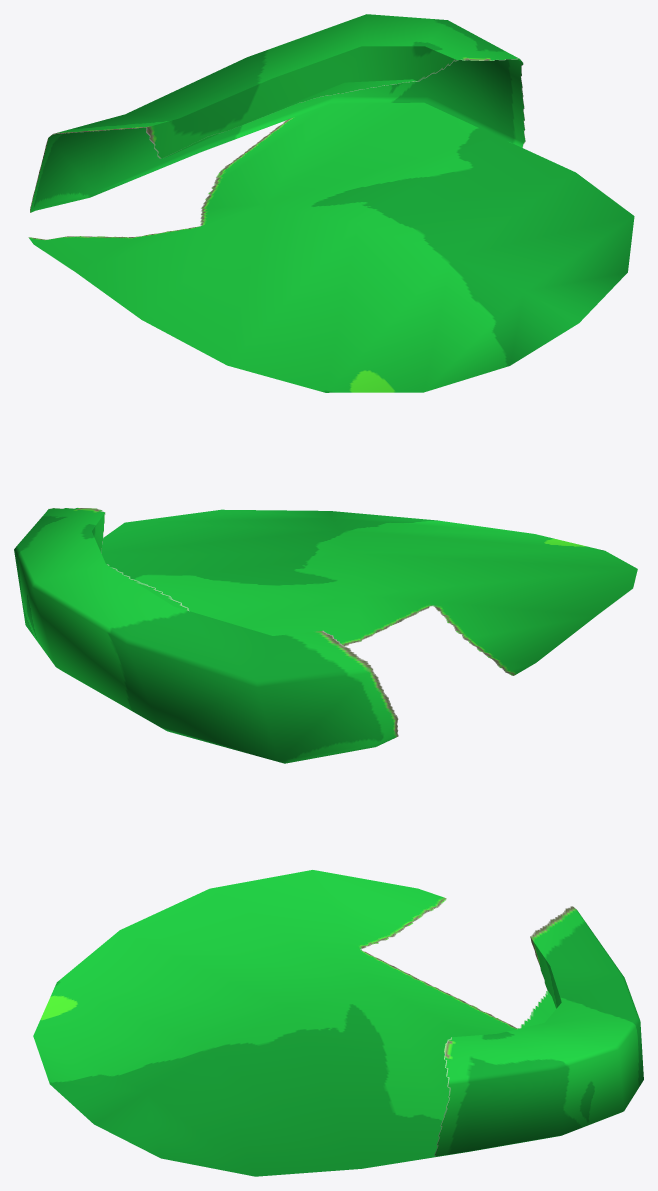
Rendered from Tomato.01.fbx.
The picture shows the model from 3 angles, top to bottom: view 1: azimuth 30°, elevation 25°; view 2: azimuth 150°, elevation 25°; view 3: azimuth 270°, elevation 25°; orthographic projection. The views are drawn at different scales.
Visible parts, largest first — view 1: Tomato.01; view 2: Tomato.01; view 3: Tomato.01.
Boxes of the visible parts, left/top/right/bottom form: Tomato.01: left=28, top=14, right=634, bottom=392; Tomato.01: left=14, top=507, right=637, bottom=763; Tomato.01: left=33, top=870, right=643, bottom=1176.
Size of the model in its own units: 38.55 by 11.29 by 39.46.
